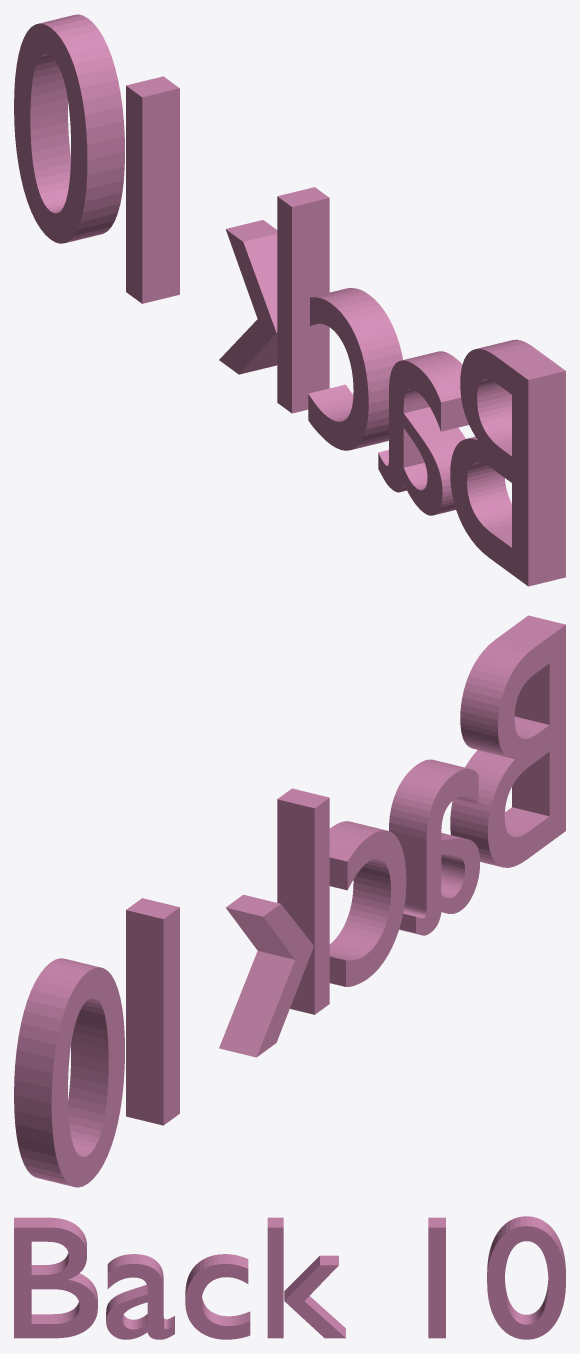
File: back.10fbx.fbx
The picture shows the model from 3 angles, top to bottom: view 1: azimuth 30°, elevation 25°; view 2: azimuth 150°, elevation 25°; view 3: azimuth 270°, elevation 25°; orthographic projection. The views are drawn at different scales.
Visible parts, largest first — view 1: Text; view 2: Text; view 3: Text.
Part boxes in pixels (x1,y1,x2,y2): Text: (14,14,565,586); Text: (14,615,565,1187); Text: (14,1216,565,1339).
Bounding box in the file's own units: 13 × 70 × 308.
